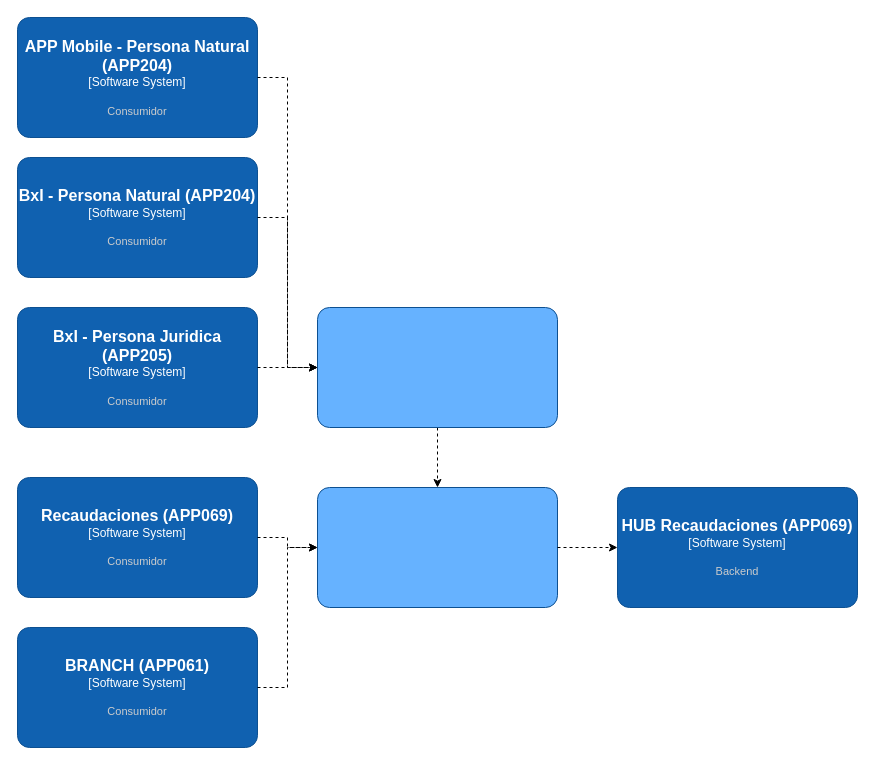
Image size: 875x765. Some labels were removed from this diagram. The shapes that lost their labels are listed below. From the top down, each one's centre as x and y in pixels, then its label:
At pixel 437 367: "API Gateway (APP212) [Software System] IBM API Connect AWS Cloud Banbif".
At pixel 437 547: "ACE12 (APP213) [Software System] IBM ACE12 (On Premise)".
